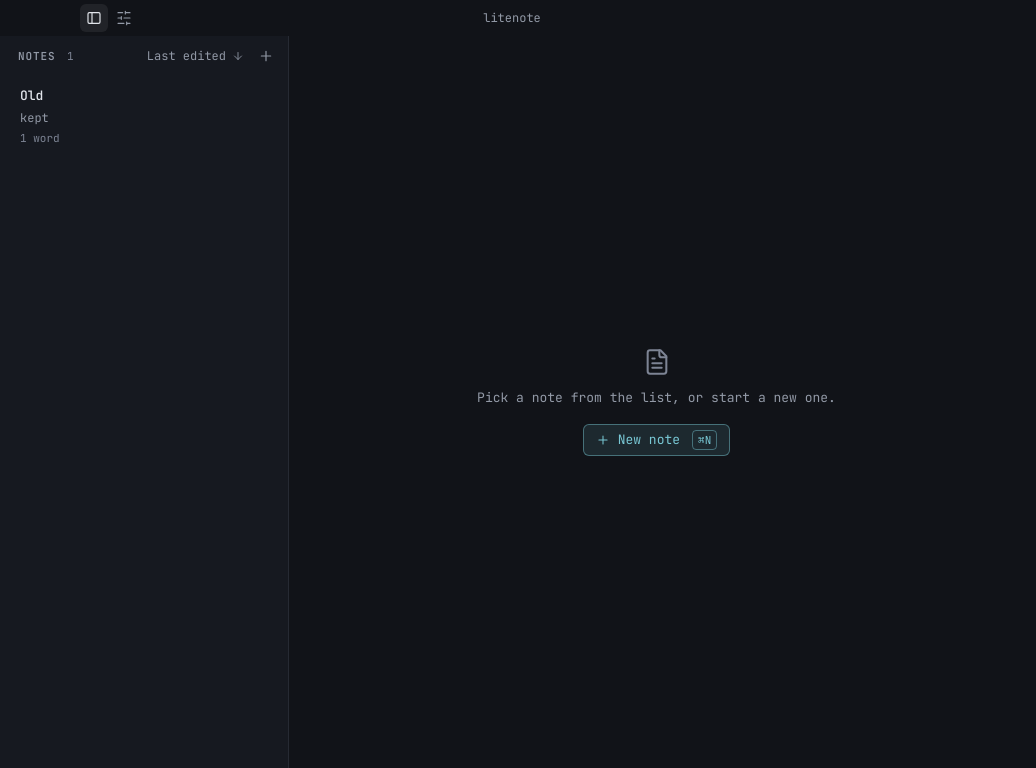
Test: App › loads notes saved before timestamps existed
Click the text "Old".
click(32, 96)  # box [20,87,43,104]
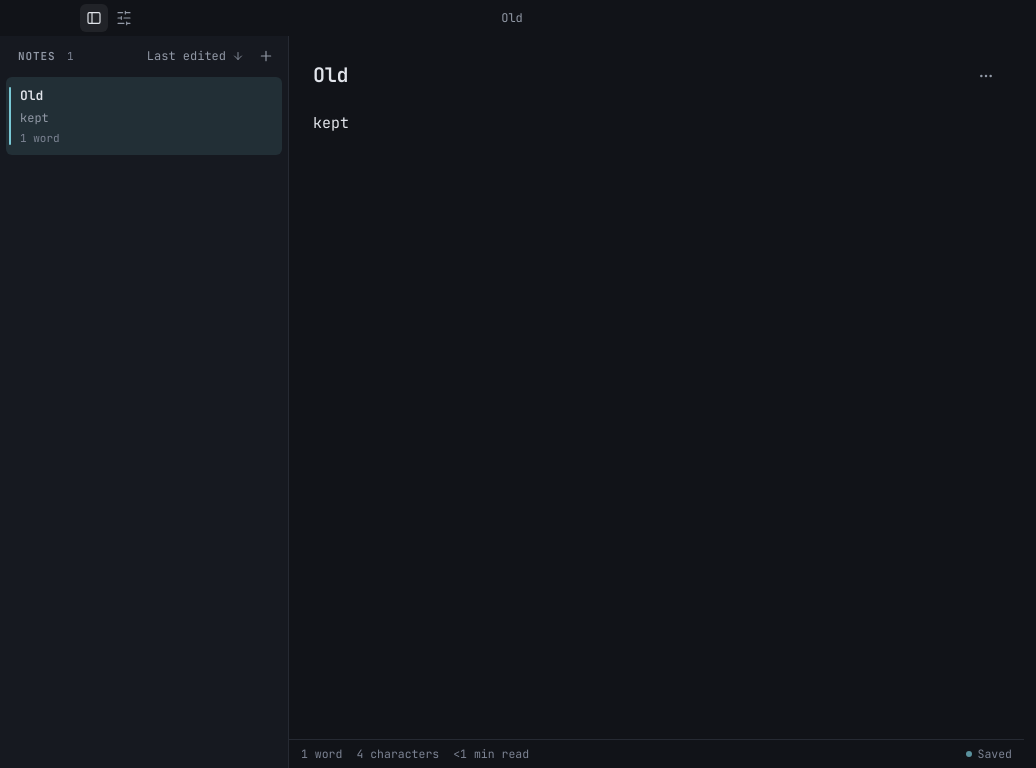
Now the text box named "Note text" holds "kept", box [289,99,1024,739]
